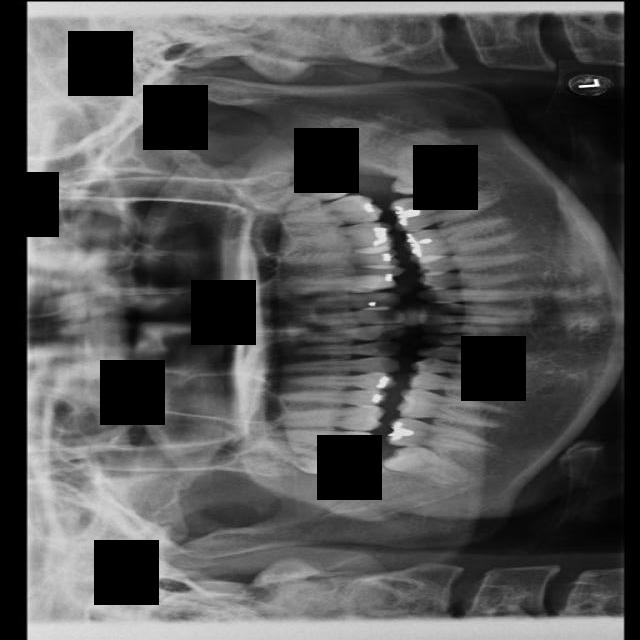3M ESPE Implant: (241, 437, 352, 479)
52: (400, 220, 454, 268), (386, 190, 437, 236), (348, 220, 396, 254), (330, 194, 382, 223), (386, 416, 432, 447), (357, 264, 404, 289), (356, 244, 401, 270), (354, 369, 397, 393), (347, 385, 388, 409), (356, 292, 401, 310)
73: (545, 54, 559, 64)
BioHorizons Implant: (262, 191, 384, 233)
BioLife Implant: (240, 164, 355, 219)
Biomet 3i Implant: (391, 143, 461, 198)
Blue Sky Bio Implant: (387, 188, 503, 233)
Caries: (260, 426, 378, 456)
Implant: (384, 415, 499, 452)
Keystone Dental Implant: (379, 435, 475, 490)
